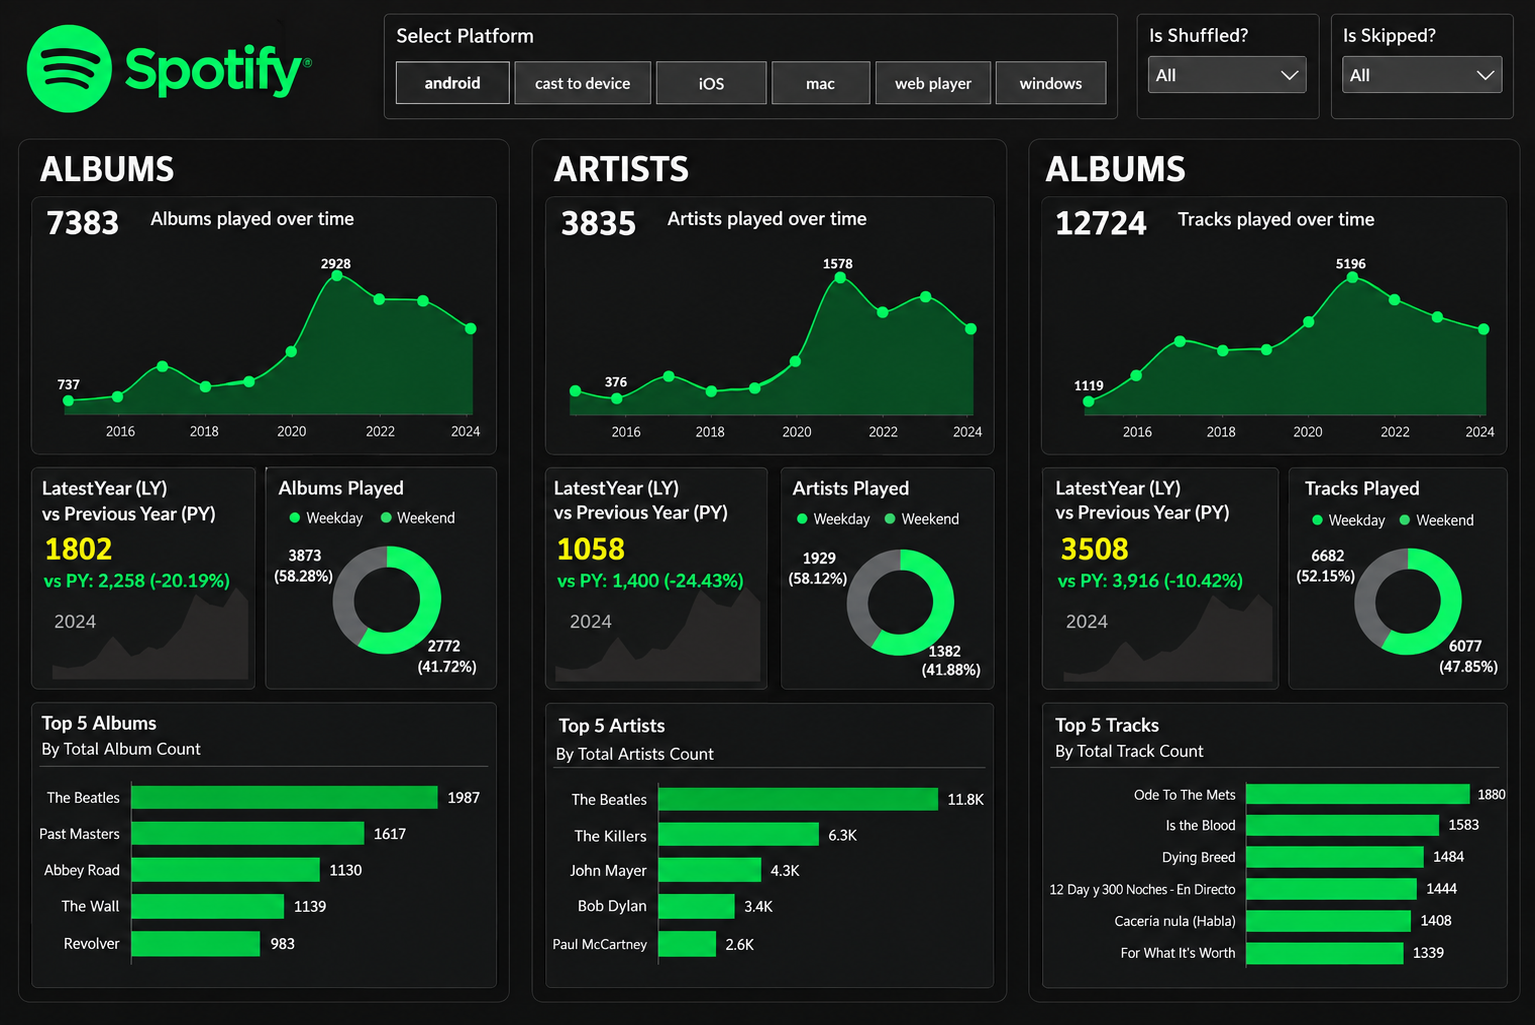

Layout of this report page (visuals, bound fields, positions):
{"tool":"powerbi","page":{"name":"Overview","canvas":[3300,2200],"ordinal":0},"visuals":[{"type":"shape","box":[790,0,1513.3,223.3],"z":0},{"type":"shape","box":[1171.7,281.7,981.2,1832.3],"z":0,"group":"g2"},{"type":"shape","box":[56,289,981.2,1832.3],"z":0,"group":"g1"},{"type":"shape","box":[2284.7,291,981.2,1832.3],"z":0,"group":"g3"},{"type":"textbox","box":[2724.4,21.1,291.5,113.3],"z":1000,"group":"g6"},{"type":"textbox","box":[816.7,23.3,291.5,113.3],"z":1000,"group":"g4"},{"type":"textbox","box":[2383.3,23.3,291.5,113.3],"z":1000,"group":"g5"},{"type":"image","box":[28.3,24.8,576.7,201.7],"z":1000},{"type":"textbox","box":[1201.5,286.9,315,110],"z":1000,"group":"g2"},{"type":"textbox","box":[85.8,294.2,315,110],"z":1000,"group":"g1"},{"type":"textbox","box":[2314.5,296.2,315,110],"z":1000,"group":"g3"},{"type":"shape","box":[2280,283.3,980,1830],"z":2000},{"type":"shape","box":[1160,293.3,980,1830],"z":3000},{"type":"group","id":"g1","title":"Group 1","box":[56,289,981.2,1832.3],"z":4000},{"type":"shape","box":[76.7,410,936.7,510],"z":5000},{"type":"cardVisual","fields":{"Data":["spotify_history.No of Albums"]},"box":[80,410,197.5,67.5],"z":6000},{"type":"textbox","box":[276.7,426.7,390,50],"z":7000},{"type":"areaChart","fields":{"Category":["Date Table.Year"],"Y":["spotify_history.No of Albums"]},"box":[143.3,516.7,863.3,380],"z":8000},{"type":"shape","box":[80,963.3,426.7,433.3],"z":9000},{"type":"areaChart","fields":{"Category":["Date Table.Year"],"Y":["spotify_history.No of Albums"]},"box":[90,1040,426.7,360],"z":10000},{"type":"textbox","box":[93.3,990,427.5,100],"z":11000},{"type":"cardVisual","fields":{"Data":["spotify_history.CurrentYearAlbums"]},"box":[104,1088,162.9,87.1],"z":12000},{"type":"cardVisual","fields":{"Data":["spotify_history.PY and YoY Albums KPI"]},"box":[103.3,1156.7,344,50],"z":13000},{"type":"slicer","fields":{"Values":["spotify_history.platform"]},"box":[783.3,90,1520,96.7],"z":14000},{"type":"cardVisual","fields":{"Data":["spotify_history.MAX YEAR"]},"box":[105,1157.5,142.5,190],"z":15000},{"type":"shape","box":[551.7,963.3,426.7,433.3],"z":16000},{"type":"donutChart","title":"Albums Played","fields":{"Category":["Date Table.Weekday_Weekend"],"Y":["spotify_history.No of Albums"]},"box":[546.7,953.3,426.7,440],"z":17000},{"type":"shape","box":[76,1450,936,638],"z":18000},{"type":"barChart","title":"Top 5 Albums","fields":{"Category":["spotify_history.album_name"],"Y":["CountNonNull(spotify_history.album_name)"]},"box":[60,1466.7,920,604],"z":19000},{"type":"group","id":"g2","title":"Group 1","box":[1171.7,281.7,981.7,1833.3],"z":20000},{"type":"shape","box":[1188,428,936.7,510],"z":21000},{"type":"cardVisual","fields":{"Data":["spotify_history.No of Artists"]},"box":[1191.3,428,197.5,67.5],"z":22000},{"type":"textbox","box":[1387.7,444.6,390.6,73],"z":23000},{"type":"areaChart","fields":{"Category":["Date Table.Year"],"Y":["spotify_history.No of Artists"]},"box":[1254.7,534.7,863.3,380],"z":24000},{"type":"shape","box":[1191.3,981.3,426.7,433.3],"z":25000},{"type":"areaChart","fields":{"Category":["Date Table.Year"],"Y":["spotify_history.No of Artists"]},"box":[1196.7,1056.7,430,360],"z":26000},{"type":"textbox","box":[1216.7,1010,427.5,100],"z":27000},{"type":"cardVisual","fields":{"Data":["spotify_history.LatestYearArtists"]},"box":[1215.3,1106,162.9,87.1],"z":28000},{"type":"cardVisual","fields":{"Data":["spotify_history.PY and YoY Artists KPI"]},"box":[1216.7,1173.3,344,50],"z":29000},{"type":"shape","box":[1656.7,978.3,426.7,433.3],"z":30000},{"type":"donutChart","title":"Artists Played","fields":{"Category":["Date Table.Weekday_Weekend"],"Y":["spotify_history.No of Artists"]},"box":[1650,980,426.7,440],"z":31000},{"type":"shape","box":[1190,1451.7,928,638],"z":32000},{"type":"barChart","title":"Top 5 Artists","fields":{"Category":["spotify_history.artist_name"],"Y":["CountNonNull(spotify_history.artist_name)"]},"box":[1193.3,1468.3,920,604],"z":33000},{"type":"cardVisual","fields":{"Data":["spotify_history.MAX YEAR"]},"box":[1215,1176.7,163.3,183.3],"z":34000},{"type":"group","id":"g3","title":"Group 1","box":[2284.7,291,981.2,1832.3],"z":35000},{"type":"shape","box":[2305.3,412,936.7,510],"z":36000},{"type":"cardVisual","fields":{"Data":["spotify_history.No of Tracks"]},"box":[2310,427.5,190,67.5],"z":37000},{"type":"textbox","box":[2522.5,445,390,50],"z":38000},{"type":"areaChart","fields":{"Category":["Date Table.Year"],"Y":["spotify_history.No of Tracks"]},"box":[2372,518.7,863.3,380],"z":39000},{"type":"shape","box":[2308.7,965.3,426.7,433.3],"z":40000},{"type":"areaChart","fields":{"Category":["Date Table.Year"],"Y":["spotify_history.No of Albums"]},"box":[2323.3,1043.3,426.7,360],"z":41000},{"type":"textbox","box":[2333.3,1010,427.5,100],"z":42000},{"type":"cardVisual","fields":{"Data":["spotify_history.LatestYearsTracks"]},"box":[2333.3,1110,162.9,87.1],"z":43000},{"type":"cardVisual","fields":{"Data":["spotify_history.PY and YoY Tracks KPI"]},"box":[2332.7,1178,344,50],"z":44000},{"type":"cardVisual","fields":{"Data":["spotify_history.MAX YEAR"]},"box":[2323.3,1173.3,142.5,190],"z":45000},{"type":"shape","box":[2780.3,965.3,426.7,433.3],"z":46000},{"type":"donutChart","title":"Tracks Played","fields":{"Category":["Date Table.Weekday_Weekend"],"Y":["spotify_history.No of Tracks"]},"box":[2776.7,953.3,426.7,440],"z":47000},{"type":"shape","box":[2304.7,1452,936,638],"z":48000},{"type":"barChart","title":"Top 5 Tracks","fields":{"Category":["spotify_history.track_name"],"Y":["CountNonNull(spotify_history.track_name)"]},"box":[2310,1470,920,604],"z":49000},{"type":"group","id":"g4","title":"Group 1","box":[816.7,23.3,290,113.3],"z":50000},{"type":"shape","box":[2376.7,23.3,616.7,200],"z":51000},{"type":"slicer","fields":{"Values":["spotify_history.shuffle"]},"box":[2376.7,83.3,273.3,200],"z":52000},{"type":"slicer","fields":{"Values":["spotify_history.skipped"]},"box":[2716.7,83.3,273.3,200],"z":53000},{"type":"group","id":"g5","title":"Group 1","box":[2383.3,23.3,290,113.3],"z":54000},{"type":"group","id":"g6","title":"Group 1","box":[2724.4,21.1,291.5,113.3],"z":55000}]}

Visuals, with their boxes in screenshot pixels (x1, y1, x2, y2), scaled from the page's 3300x2200 canvas onto the 1535x1025 screenshot:
shape: region(367, 0, 1071, 104)
shape: region(545, 131, 1001, 985)
shape: region(26, 135, 482, 988)
shape: region(1063, 136, 1519, 989)
textbox: region(1267, 10, 1403, 63)
textbox: region(380, 11, 515, 64)
textbox: region(1109, 11, 1244, 64)
image: region(13, 12, 281, 106)
textbox: region(559, 134, 705, 185)
textbox: region(40, 137, 186, 188)
textbox: region(1077, 138, 1223, 189)
shape: region(1061, 132, 1516, 985)
shape: region(540, 137, 995, 989)
"Group 1" group: region(26, 135, 482, 988)
shape: region(36, 191, 471, 429)
cardVisual - spotify_history.No of Albums: region(37, 191, 129, 222)
textbox: region(129, 199, 310, 222)
areaChart - Date Table.Year x spotify_history.No of Albums: region(67, 241, 468, 418)
shape: region(37, 449, 236, 651)
areaChart - Date Table.Year x spotify_history.No of Albums: region(42, 485, 240, 652)
textbox: region(43, 461, 242, 508)
cardVisual - spotify_history.CurrentYearAlbums: region(48, 507, 124, 547)
cardVisual - spotify_history.PY and YoY Albums KPI: region(48, 539, 208, 562)
slicer - spotify_history.platform: region(364, 42, 1071, 87)
cardVisual - spotify_history.MAX YEAR: region(49, 539, 115, 628)
shape: region(257, 449, 455, 651)
"Albums Played" donutChart: region(254, 444, 453, 649)
shape: region(35, 676, 471, 973)
"Top 5 Albums" barChart: region(28, 683, 456, 965)
"Group 1" group: region(545, 131, 1002, 985)
shape: region(553, 199, 988, 437)
cardVisual - spotify_history.No of Artists: region(554, 199, 646, 231)
textbox: region(645, 207, 827, 241)
areaChart - Date Table.Year x spotify_history.No of Artists: region(584, 249, 985, 426)
shape: region(554, 457, 753, 659)
areaChart - Date Table.Year x spotify_history.No of Artists: region(557, 492, 757, 660)
textbox: region(566, 471, 765, 517)
cardVisual - spotify_history.LatestYearArtists: region(565, 515, 641, 556)
cardVisual - spotify_history.PY and YoY Artists KPI: region(566, 547, 726, 570)
shape: region(771, 456, 969, 658)
"Artists Played" donutChart: region(768, 457, 966, 662)
shape: region(554, 676, 985, 974)
"Top 5 Artists" barChart: region(555, 684, 983, 966)
cardVisual - spotify_history.MAX YEAR: region(565, 548, 641, 634)
"Group 1" group: region(1063, 136, 1519, 989)
shape: region(1072, 192, 1508, 430)
cardVisual - spotify_history.No of Tracks: region(1074, 199, 1163, 231)
textbox: region(1173, 207, 1355, 231)
areaChart - Date Table.Year x spotify_history.No of Tracks: region(1103, 242, 1505, 419)
shape: region(1074, 450, 1272, 652)
areaChart - Date Table.Year x spotify_history.No of Albums: region(1081, 486, 1279, 654)
textbox: region(1085, 471, 1284, 517)
cardVisual - spotify_history.LatestYearsTracks: region(1085, 517, 1161, 558)
cardVisual - spotify_history.PY and YoY Tracks KPI: region(1085, 549, 1245, 572)
cardVisual - spotify_history.MAX YEAR: region(1081, 547, 1147, 635)
shape: region(1293, 450, 1492, 652)
"Tracks Played" donutChart: region(1292, 444, 1490, 649)
shape: region(1072, 676, 1507, 974)
"Top 5 Tracks" barChart: region(1074, 685, 1502, 966)
"Group 1" group: region(380, 11, 515, 64)
shape: region(1106, 11, 1392, 104)
slicer - spotify_history.shuffle: region(1106, 39, 1233, 132)
slicer - spotify_history.skipped: region(1264, 39, 1391, 132)
"Group 1" group: region(1109, 11, 1243, 64)
"Group 1" group: region(1267, 10, 1403, 63)
